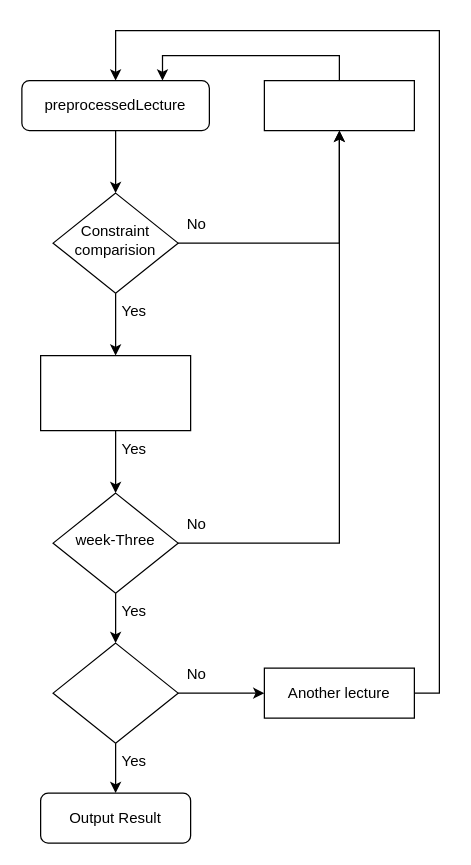
Some shapes in this 471 by 865 pixel diagram are drawn without their labels. The shapes that lost their labels are listed below. From the top down, each one's centre as x and y in pixels, then its label:
the point at 338,105: BackTracking
the point at 115,392: Output update
the point at 115,692: All Set
